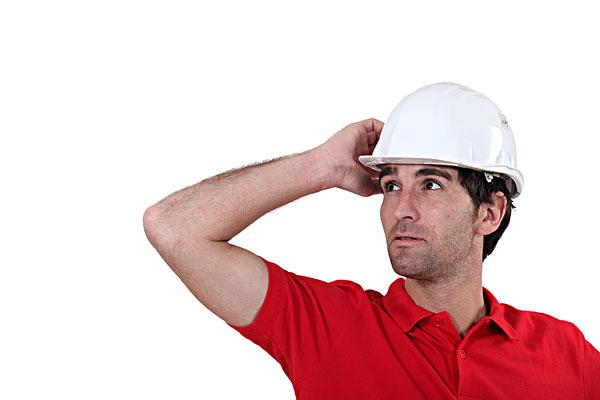helmet: (360, 84, 527, 202)
